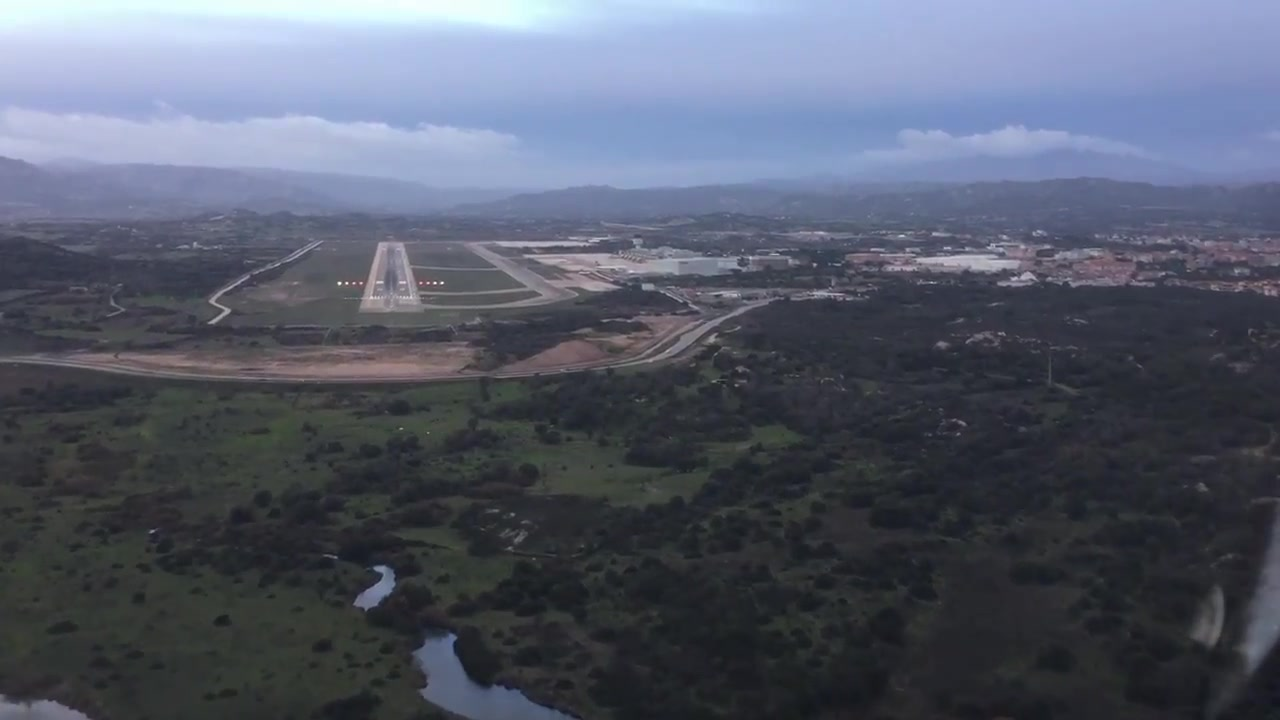entrance: (368, 294, 410, 302)
runway: (358, 242, 423, 310)
